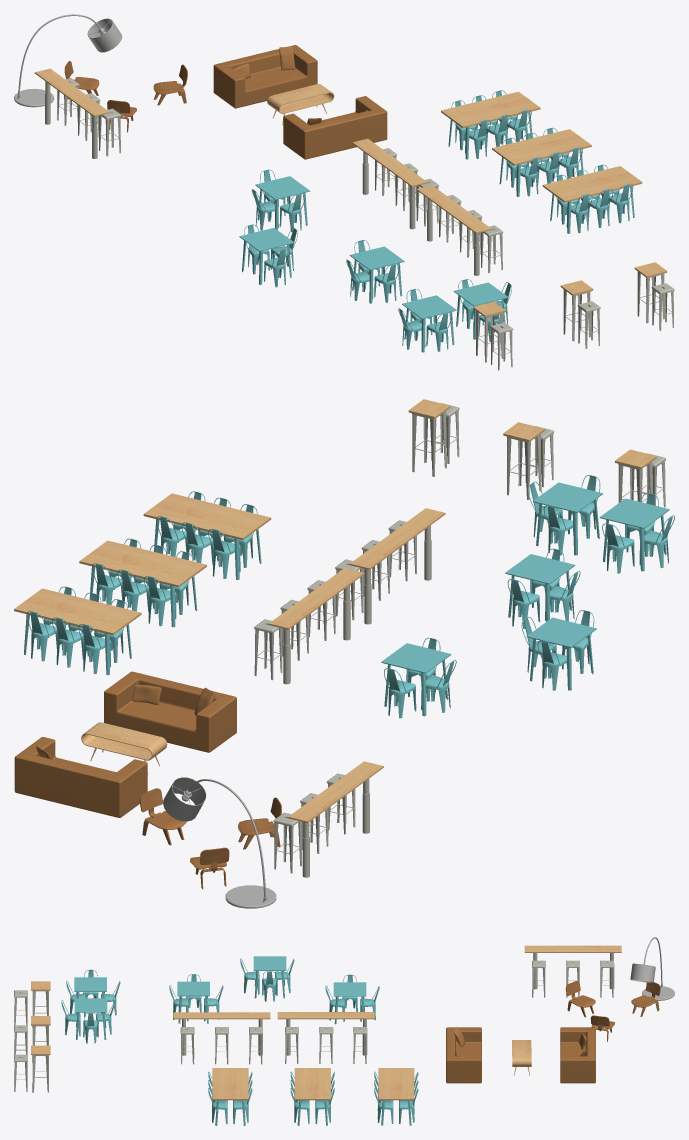
File: COWORKING.fbx
3 renders of one model, top to bottom at view 1: azimuth 30°, elevation 25°; view 2: azimuth 150°, elevation 25°; view 3: azimuth 270°, elevation 25°, orthographic. The views are drawn at different scales.
Parts seen in each view (by area): view 1: chaises_coworking, canape_coworking5, support_table_coworking, tabouret_table_haut_coworking, table_coworking, support_table_haut_coworking, pieds_table_haut_coworking, abajour3, chaise_scandinave_coworking3, table_basse_coworking1, pieds_table_coworking; view 2: chaises_coworking, canape_coworking5, support_table_coworking, table_coworking, tabouret_table_haut_coworking, support_table_haut_coworking, pieds_table_haut_coworking, chaise_scandinave_coworking3, abajour3, table_basse_coworking1, pieds_table_coworking; view 3: chaises_coworking, canape_coworking5, support_table_coworking, tabouret_table_haut_coworking, table_coworking, support_table_haut_coworking, pieds_table_haut_coworking, chaise_scandinave_coworking3, abajour3, table_basse_coworking1, pieds_table_coworking.
Boxes of the visible parts, x1,y1,x2,y2 form: chaises_coworking: [244, 90, 633, 351]; canape_coworking5: [213, 45, 387, 159]; support_table_coworking: [441, 91, 642, 202]; tabouret_table_haut_coworking: [57, 78, 674, 370]; table_coworking: [239, 176, 508, 352]; support_table_haut_coworking: [34, 68, 667, 316]; pieds_table_haut_coworking: [45, 81, 664, 362]; abajour3: [14, 14, 122, 107]; chaise_scandinave_coworking3: [64, 61, 187, 132]; table_basse_coworking1: [267, 84, 334, 125]; pieds_table_coworking: [448, 112, 634, 233]; chaises_coworking: [26, 475, 674, 718]; canape_coworking5: [14, 671, 236, 817]; support_table_coworking: [14, 493, 271, 635]; table_coworking: [381, 482, 669, 716]; tabouret_table_haut_coworking: [254, 403, 665, 873]; support_table_haut_coworking: [268, 399, 656, 822]; pieds_table_haut_coworking: [283, 411, 652, 877]; chaise_scandinave_coworking3: [139, 788, 281, 889]; abajour3: [163, 777, 276, 908]; table_basse_coworking1: [81, 722, 167, 774]; pieds_table_coworking: [24, 519, 261, 675]; chaises_coworking: [61, 958, 418, 1124]; canape_coworking5: [446, 1027, 595, 1083]; support_table_coworking: [212, 1068, 414, 1100]; tabouret_table_haut_coworking: [14, 960, 613, 1091]; table_coworking: [74, 956, 366, 1039]; support_table_haut_coworking: [31, 945, 621, 1054]; pieds_table_haut_coworking: [32, 953, 614, 1092]; chaise_scandinave_coworking3: [565, 981, 660, 1041]; abajour3: [630, 937, 674, 1000]; table_basse_coworking1: [512, 1040, 531, 1075]; pieds_table_coworking: [215, 1100, 411, 1125].
Size of the model in its own units: 759 by 167 by 1488.
